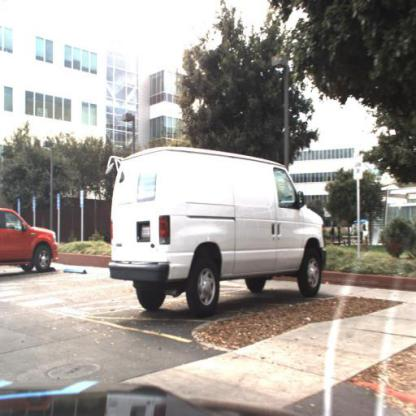car: (106, 145, 328, 319), (1, 206, 60, 279)
truck: (103, 140, 331, 324)
